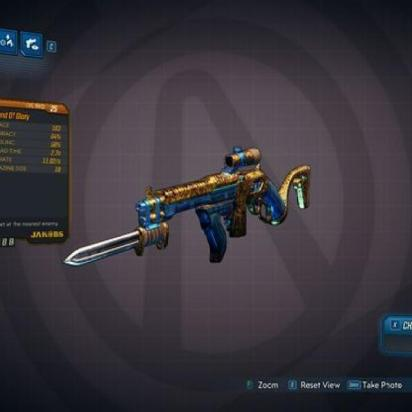Gun: (63, 142, 314, 285)
